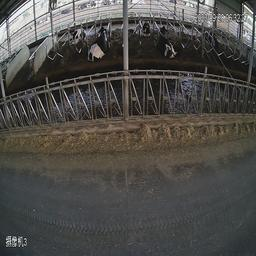cow: (88, 23, 109, 64), (155, 21, 177, 60), (203, 23, 223, 49), (131, 17, 152, 39), (70, 27, 87, 46)
